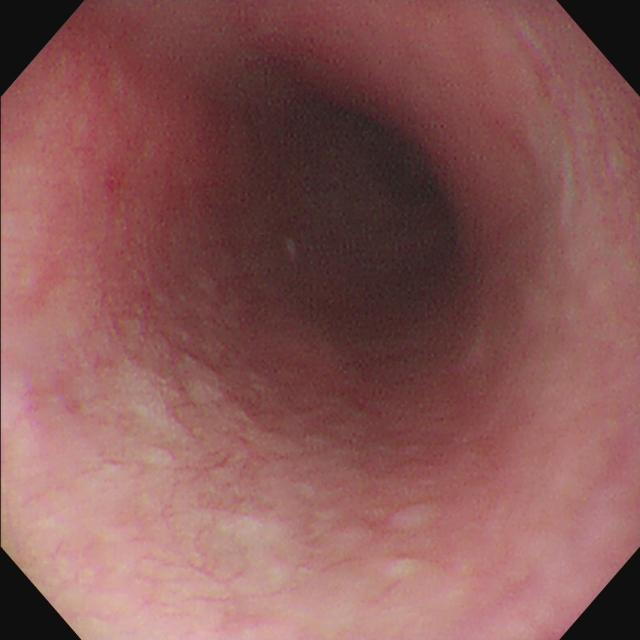E: (337, 118, 458, 256)
J: (283, 237, 301, 262)
